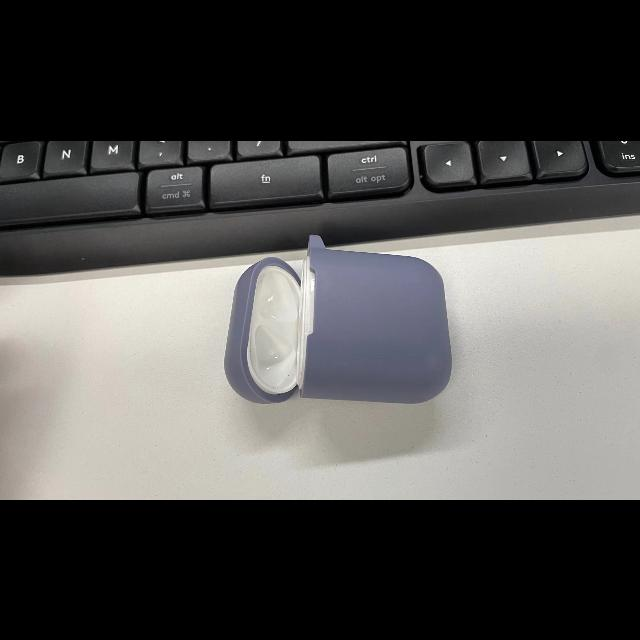airpods: (224, 235, 452, 405)
